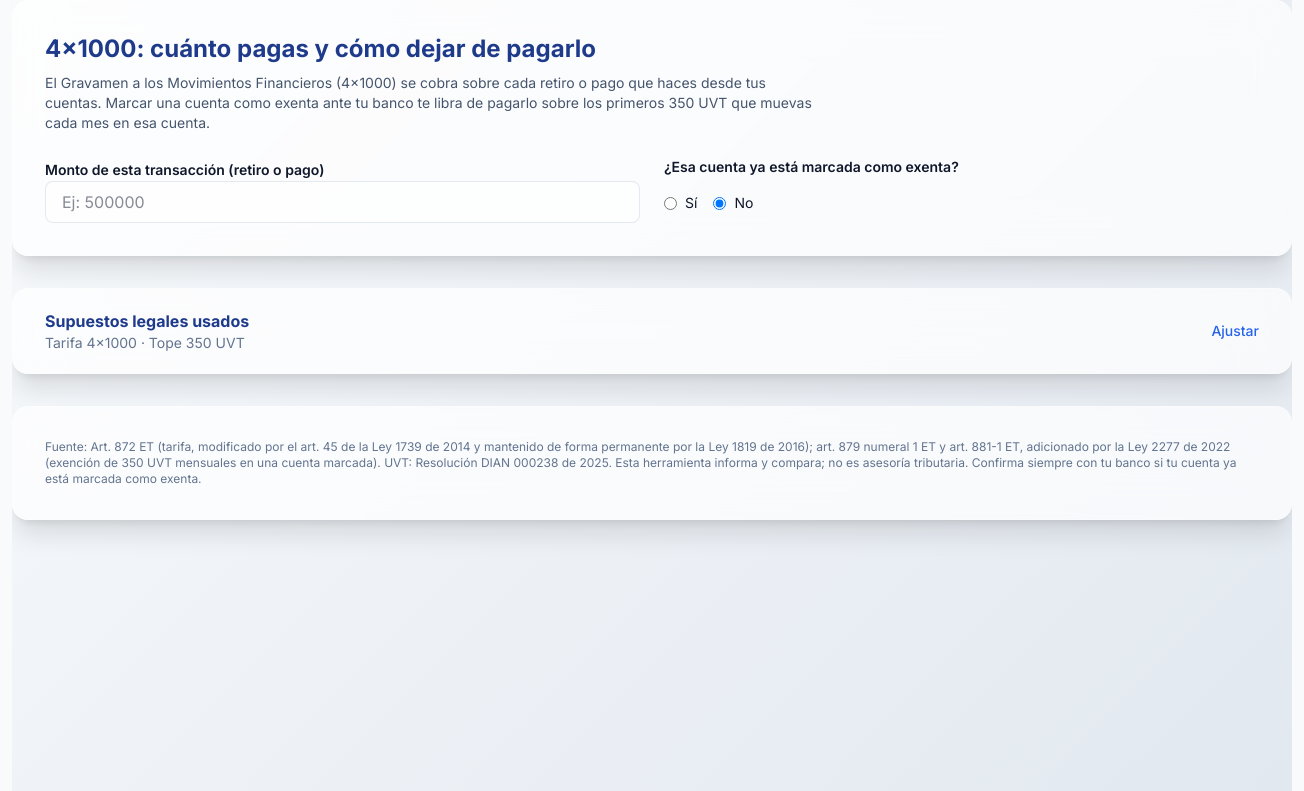
CalculadoraGMF › con el saldo completo en la cuenta, dice cuánto se puede transferir de verdad
Type "100000" into the number field labelled "Monto de esta transacción (retiro o pago)" at (342, 202), box x1=45 y1=181 x2=640 y2=223
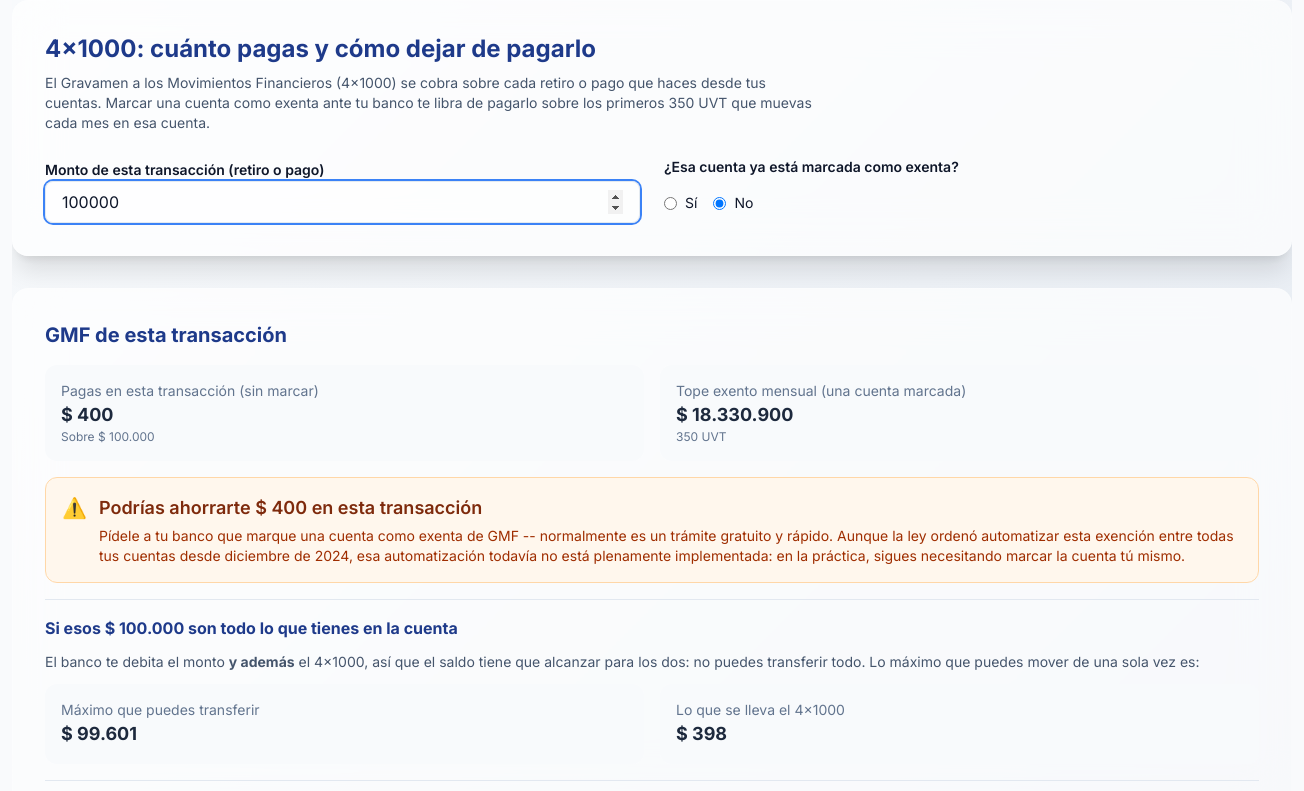
Now the heading "Si esos $ 100.000 son todo lo que tienes en la cuenta" is shown, box x1=45 y1=618 x2=458 y2=638
Now the text "$ 99.601" is shown, box x1=61 y1=723 x2=137 y2=744
Now the text "$ 398" is shown, box x1=676 y1=723 x2=727 y2=744
